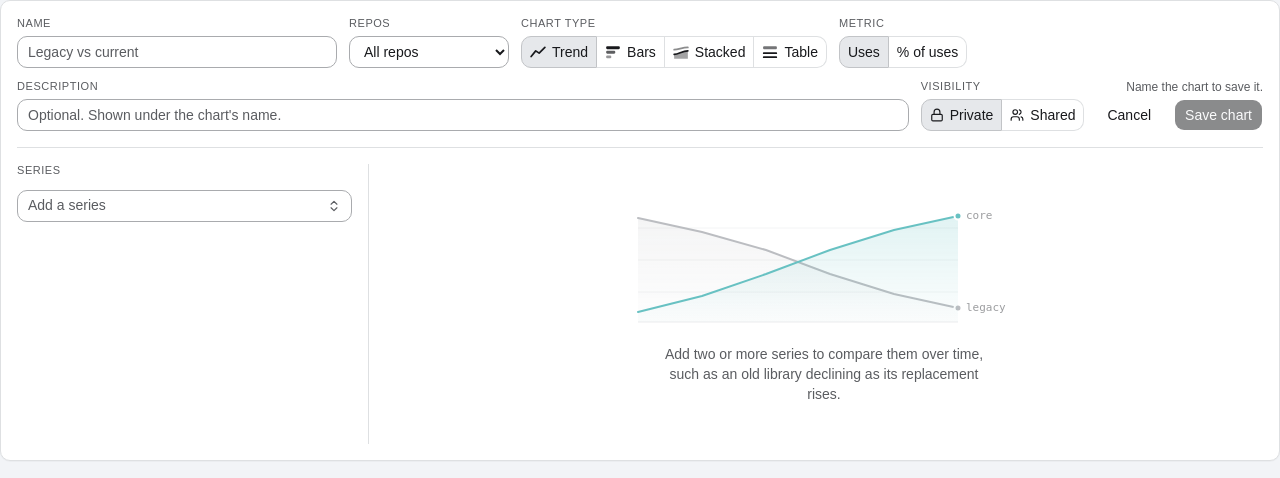
chart builder read availability › shows preparing history in the preview and loads it on its own
What coordinates should you click on to do the following:
click the dropdown labelled "Add a series"
I would click on:
 (174, 206)
Its box is [28, 191, 321, 221].
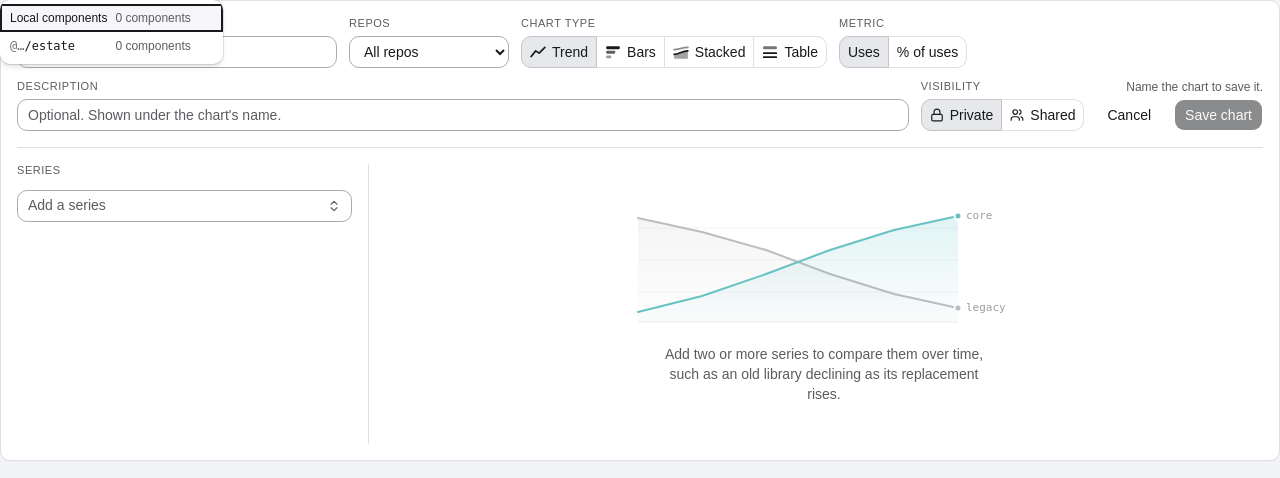
What coordinates should you click on to do the following:
click the option "Local components 0 components"
I would click on:
 (111, 18)
Its box is [0, 4, 223, 32].
Wait 5000 ms
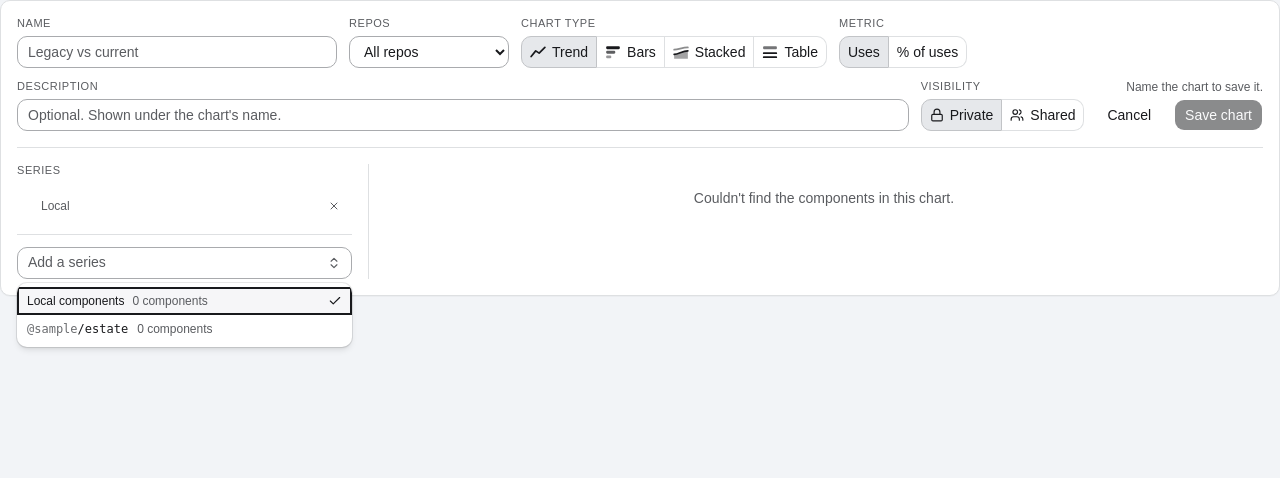
expect the text "Couldn't find the components in this chart." is shown: met, box [694, 190, 954, 206]
